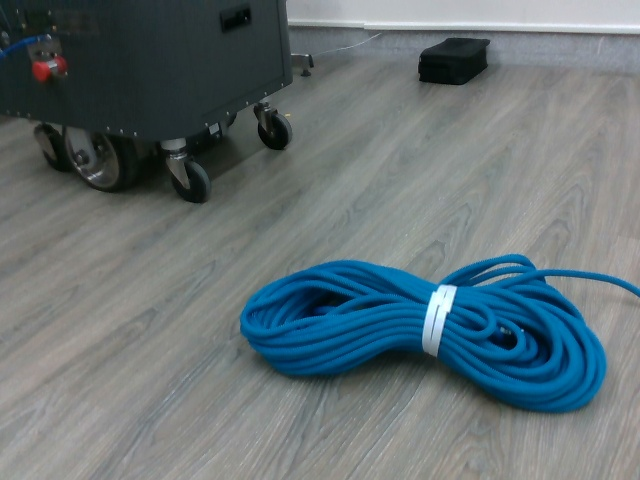rope: (239, 249, 614, 422)
